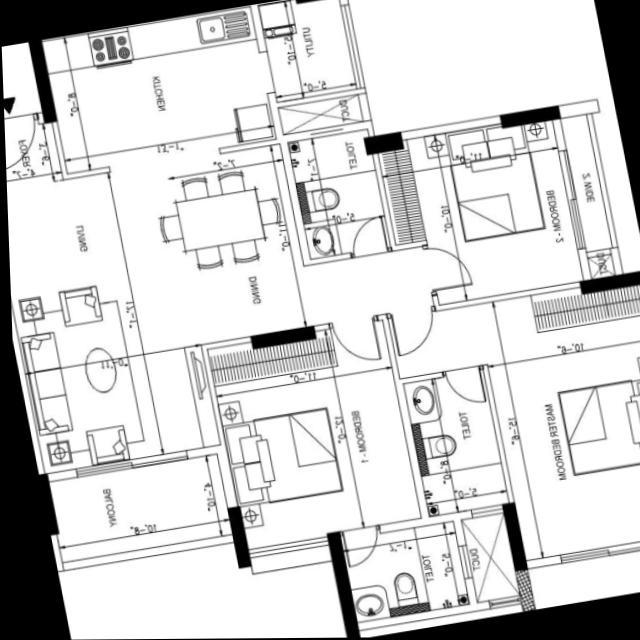Balcony-Sitout: (34, 445, 237, 573)
Bedroom: (193, 315, 423, 562), (362, 104, 589, 321)
Bedroom with Toilet: (382, 280, 640, 571)
Dining: (143, 163, 288, 280)
Enterance-Foyer: (3, 108, 64, 184)
Kitchen: (26, 6, 277, 184)
Living: (5, 166, 164, 485)
Toilet: (390, 365, 515, 526), (323, 519, 474, 633), (275, 122, 386, 266)
Utility: (248, 0, 362, 110)
